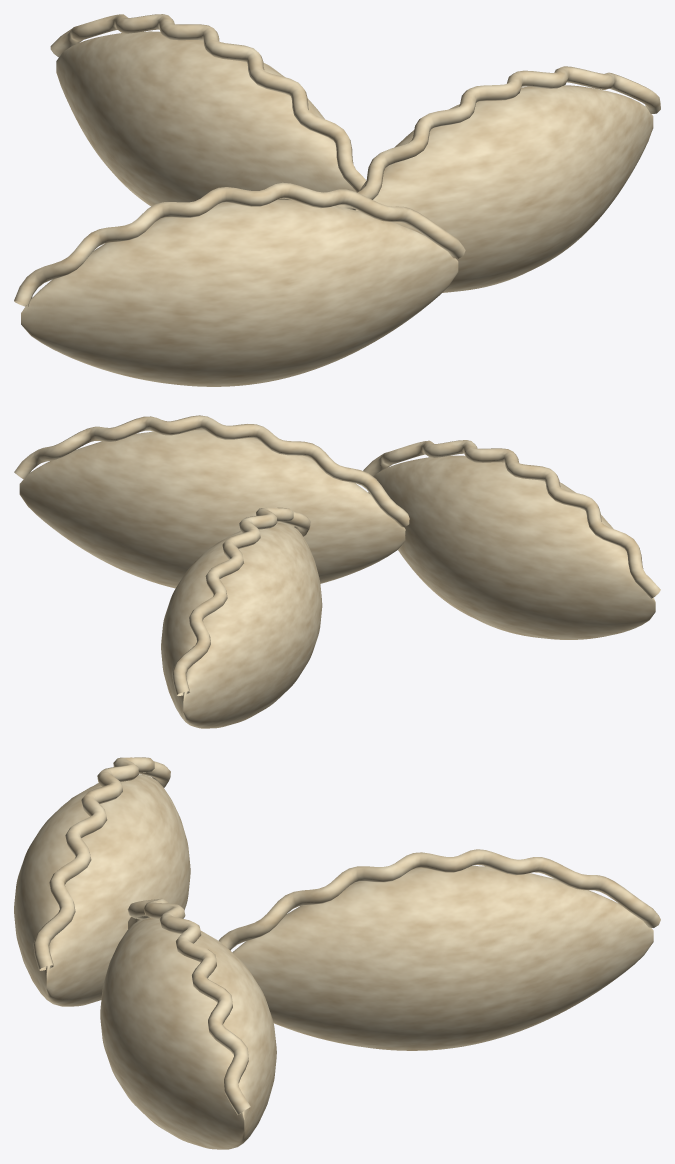
File: food_alfajor_runtime.glb
The picture shows the model from 3 angles, top to bottom: view 1: azimuth 30°, elevation 25°; view 2: azimuth 150°, elevation 25°; view 3: azimuth 270°, elevation 25°; orthographic projection. The views are drawn at different scales.
Visible parts, largest first — view 1: cn_food_jiaozi_body; view 2: cn_food_jiaozi_body; view 3: cn_food_jiaozi_body.
Boxes of the visible parts, <box> form: cn_food_jiaozi_body: <box>14,14,660,386</box>; cn_food_jiaozi_body: <box>14,415,660,728</box>; cn_food_jiaozi_body: <box>14,757,660,1149</box>.
Bounding box in the file's own units: 1.15 × 0.3018 × 0.9429.
Materials: 1 (1 with a texture image).
